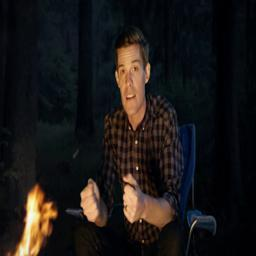fire: (13, 185, 56, 256)
